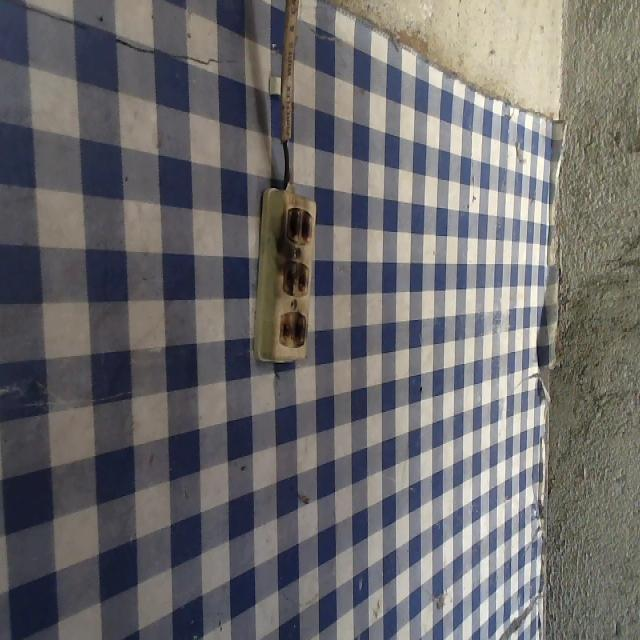-: (276, 198, 316, 246), (276, 259, 314, 304), (274, 307, 311, 349)
